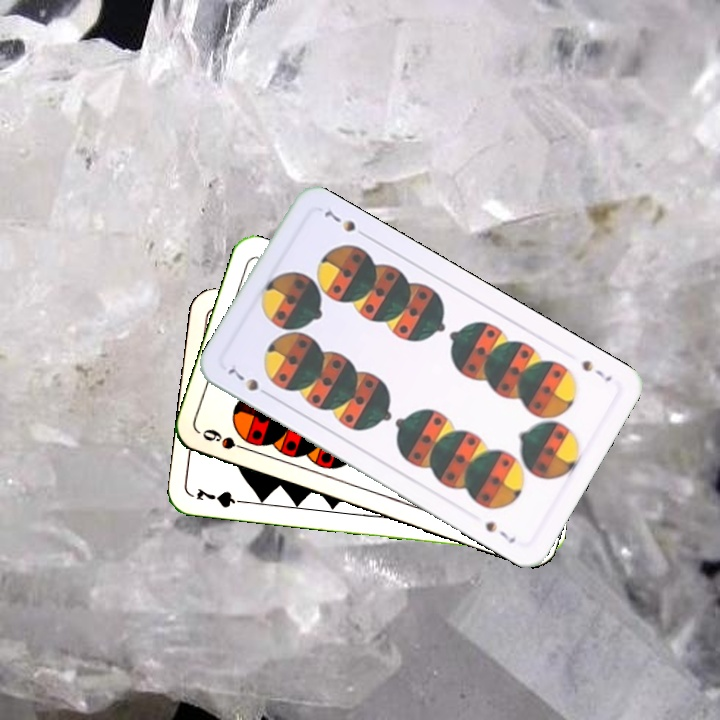G7: (192, 484, 251, 510)
S7: (223, 364, 274, 400), (577, 356, 615, 385)
S9: (198, 425, 255, 455)
